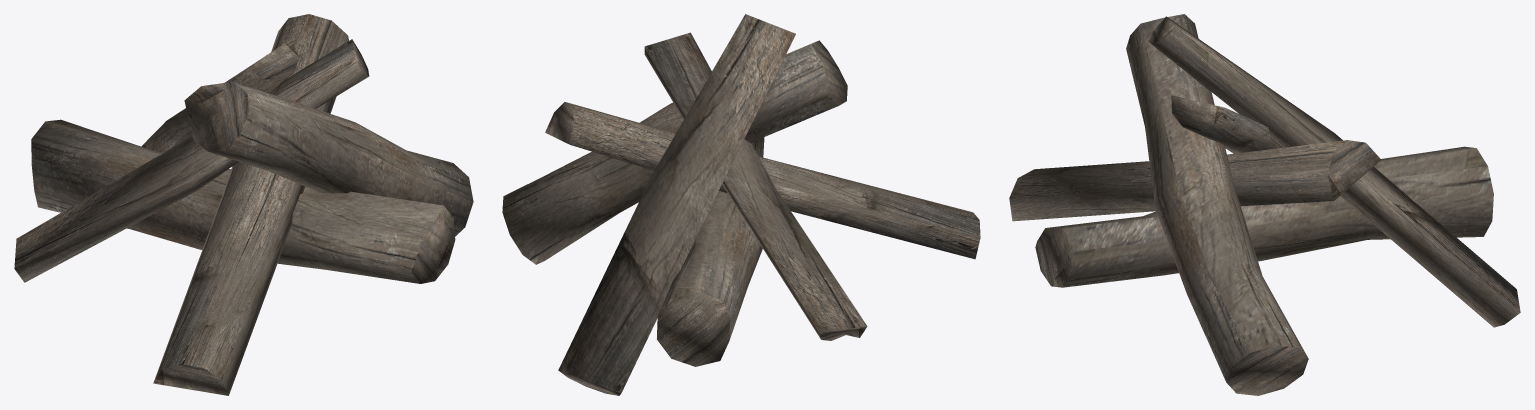
File: campfire.obj
3 renders of one model, left to right at view 1: azimuth 30°, elevation 25°; view 2: azimuth 150°, elevation 25°; view 3: azimuth 270°, elevation 25°, orthographic. The views are drawn at different scales.
Visible parts, largest first — view 1: Plane; view 2: Plane; view 3: Plane.
Part boxes in pixels (x1=…): Plane: x1=14, y1=14, x2=473, y2=395; Plane: x1=502, y1=14, x2=980, y2=395; Plane: x1=1009, y1=14, x2=1520, y2=395.
Bounding box in the file's own units: 3.76 × 2.52 × 3.94.
1 material, 1 textured.
